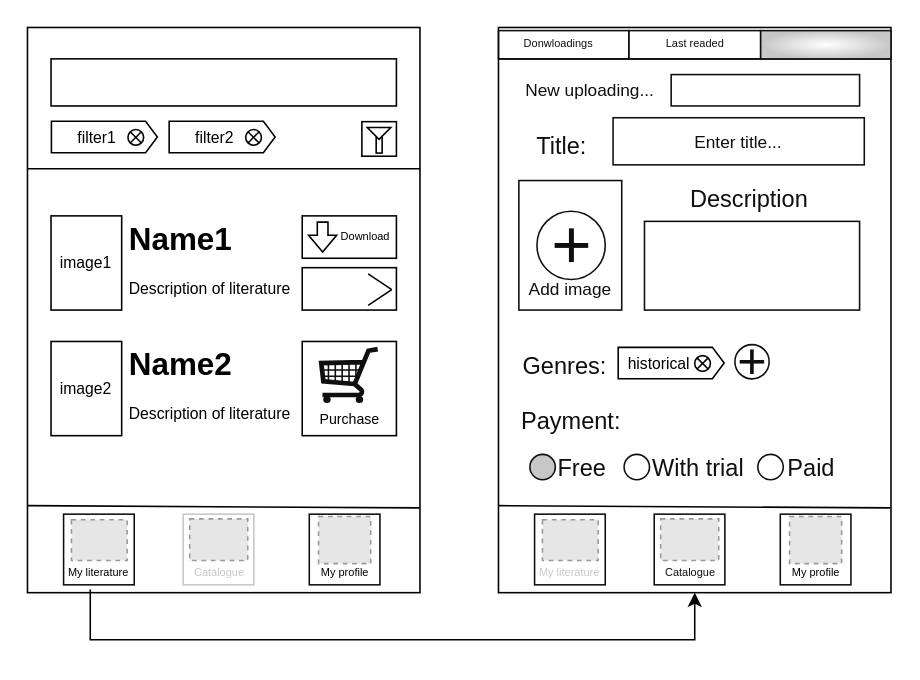
Image size: 920x680. Some labels were removed from this diagram. Grey dashed boxes stand in for pictures. The box of each missing label's shape, as (x1, y1, x2, y2) in pixels:
Choose file...: (670, 73, 860, 106)
Enter name...: (49, 57, 396, 106)
Start reading: (301, 266, 396, 310)
Type description...: (643, 220, 860, 310)
Uploadings: (759, 29, 891, 59)
